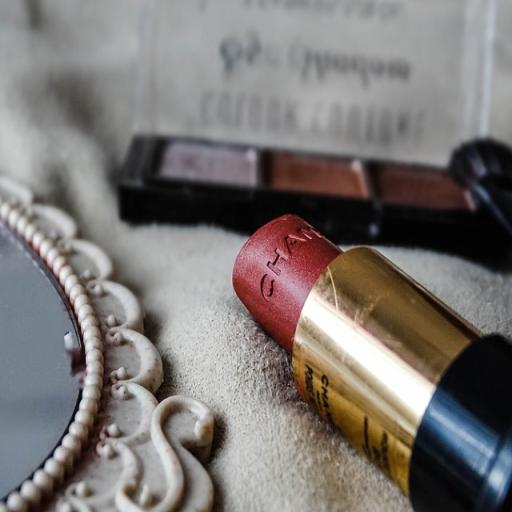lipstick: (233, 216, 511, 511)
